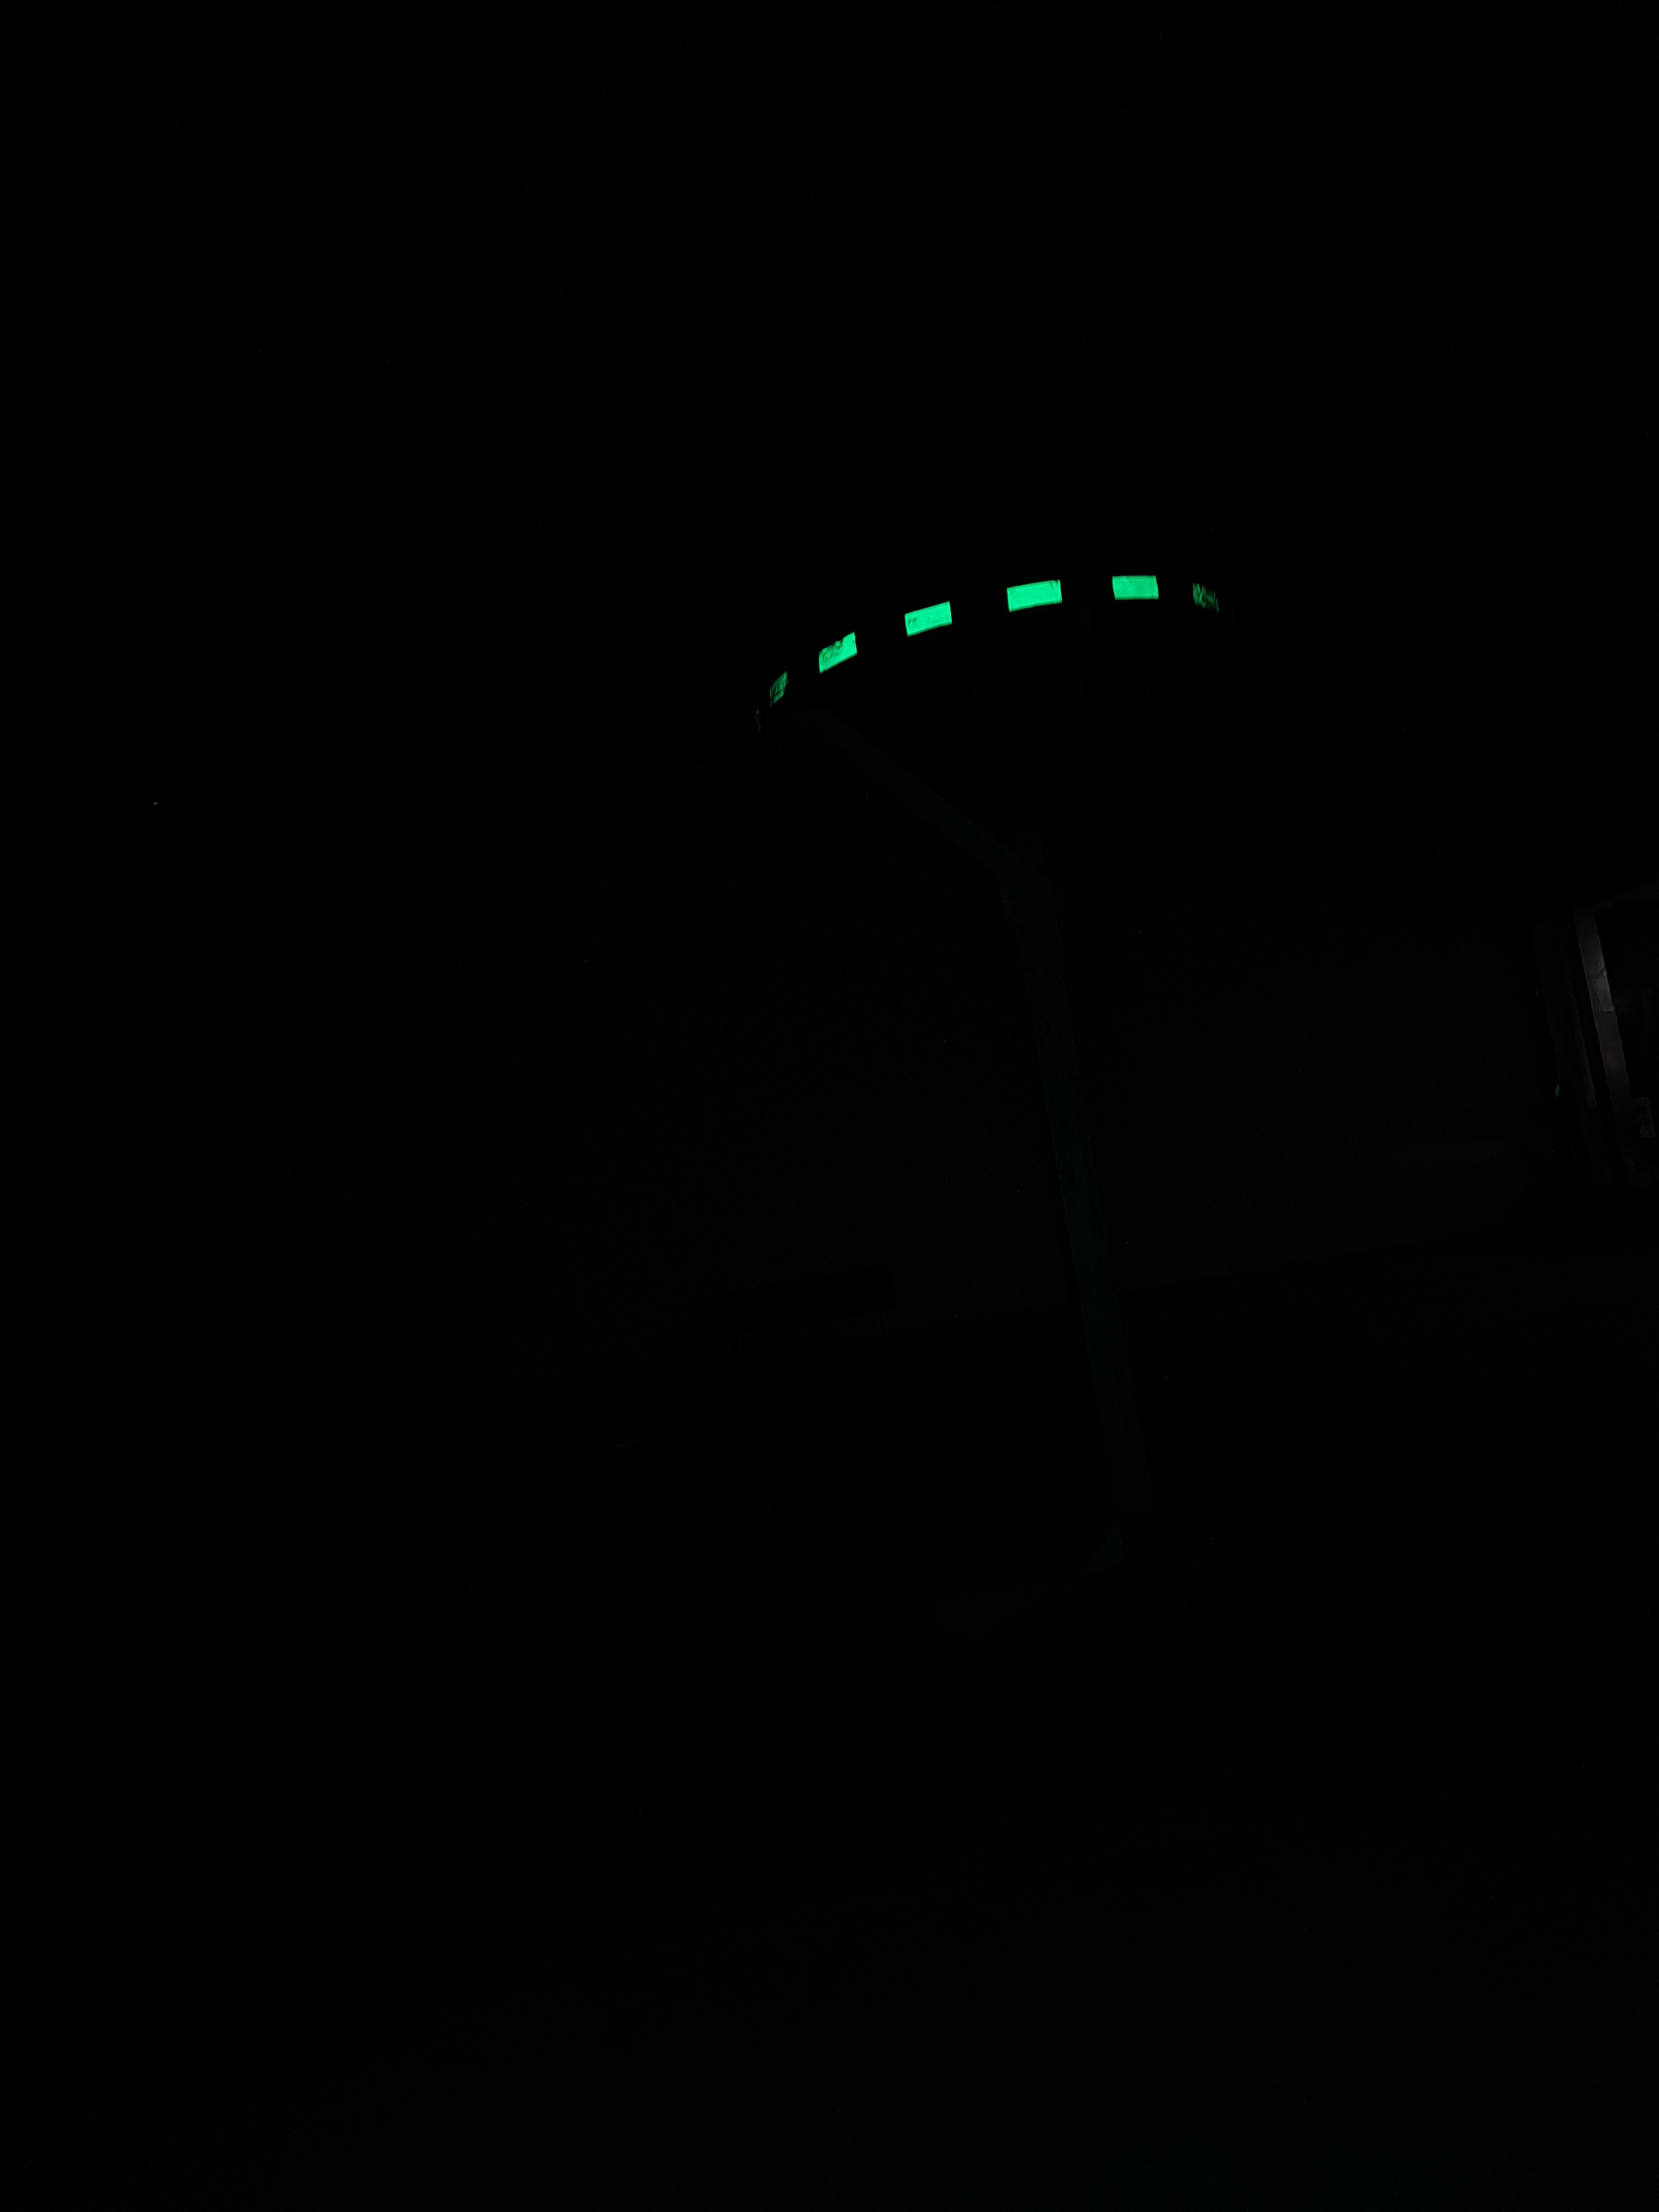hoop: (732, 529, 1251, 747)
